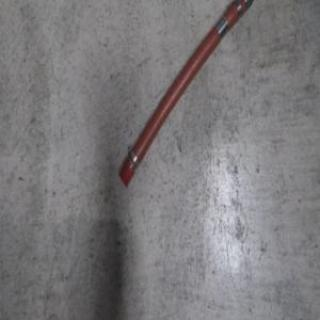Hosetrack_idkeyframe: (116, 0, 253, 188)
